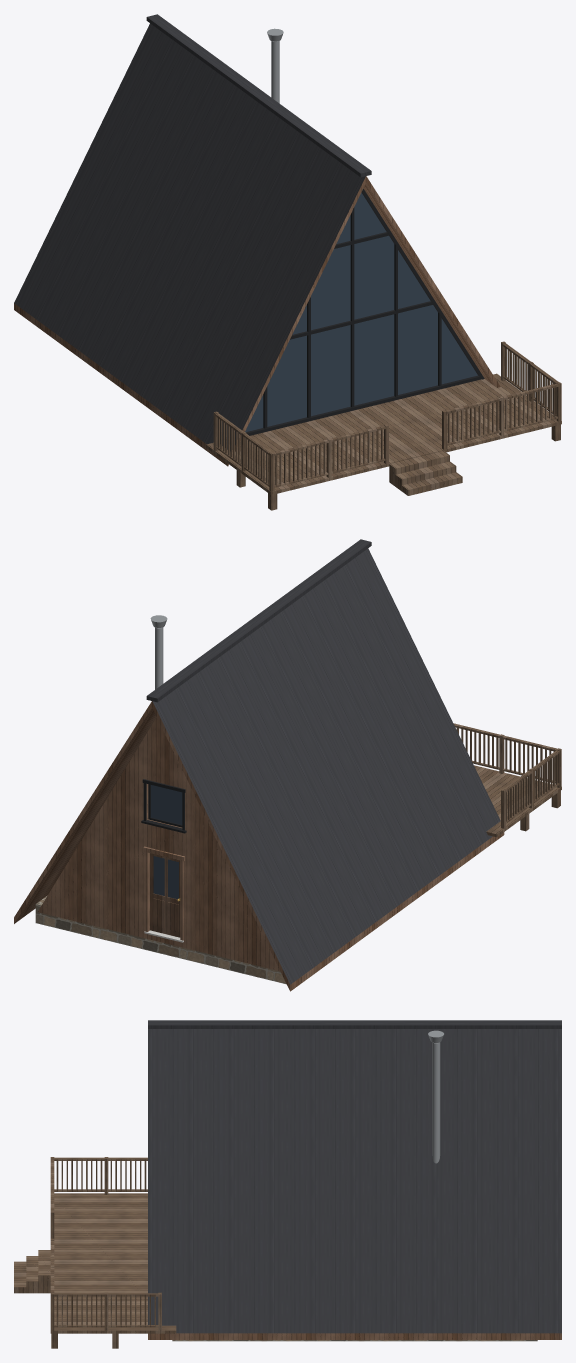
File: a-frame-cabin.glb
3 views of the same model, one above another, from view 1: azimuth 30°, elevation 25°; view 2: azimuth 150°, elevation 25°; view 3: azimuth 270°, elevation 25° (orthographic). The views are drawn at different scales.
Parts seen in each view (by area): view 1: A_Frame_Cabin; view 2: A_Frame_Cabin; view 3: A_Frame_Cabin.
Boxes of the visible parts, x1,y1,x2,y2 form: A_Frame_Cabin: (14, 14, 561, 510); A_Frame_Cabin: (14, 539, 561, 991); A_Frame_Cabin: (14, 1020, 561, 1348).
Size of the model in its own units: 8 by 7.45 by 13.5.
Materials: 10 (6 with a texture image).
